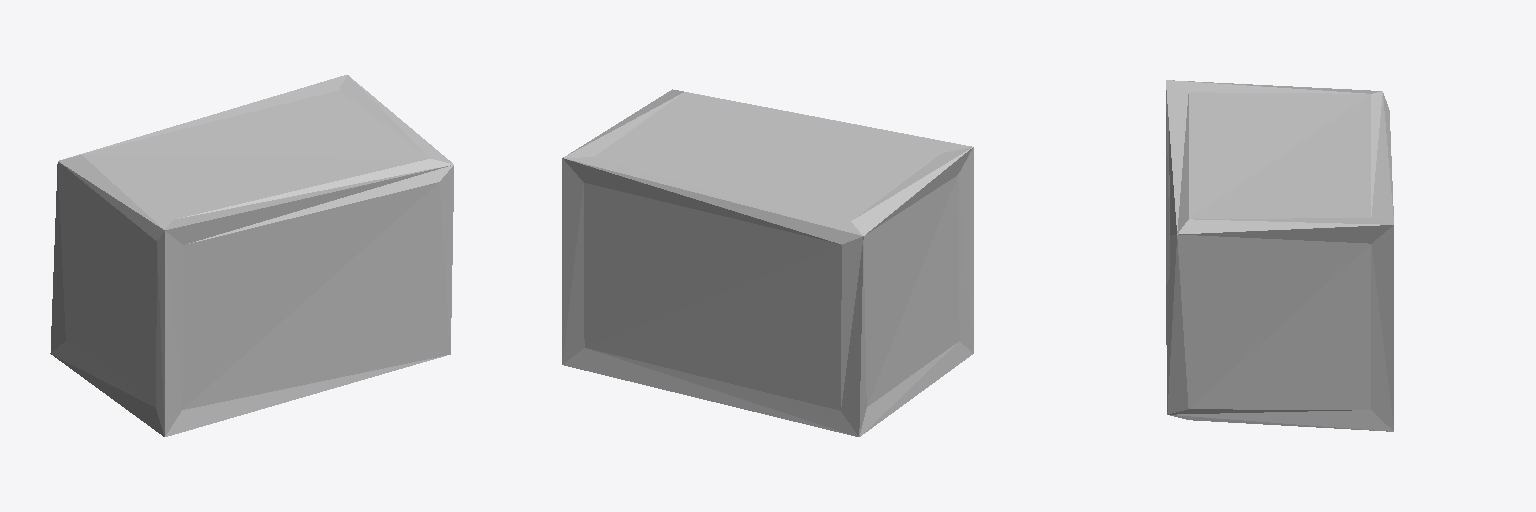
File: chizbox_LOD1.obj
The picture shows the model from 3 angles: view 1: azimuth 30°, elevation 25°; view 2: azimuth 150°, elevation 25°; view 3: azimuth 270°, elevation 25°; orthographic projection.
Visible parts, largest first — view 1: Cube_Cube.002; view 2: Cube_Cube.002; view 3: Cube_Cube.002.
Boxes of the visible parts, box(x1,y1,x2,y2) form: Cube_Cube.002: box(50, 75, 453, 436); Cube_Cube.002: box(562, 89, 973, 436); Cube_Cube.002: box(1166, 80, 1393, 431).
Bounding box in the file's own units: 1.17 × 0.78 × 0.78.